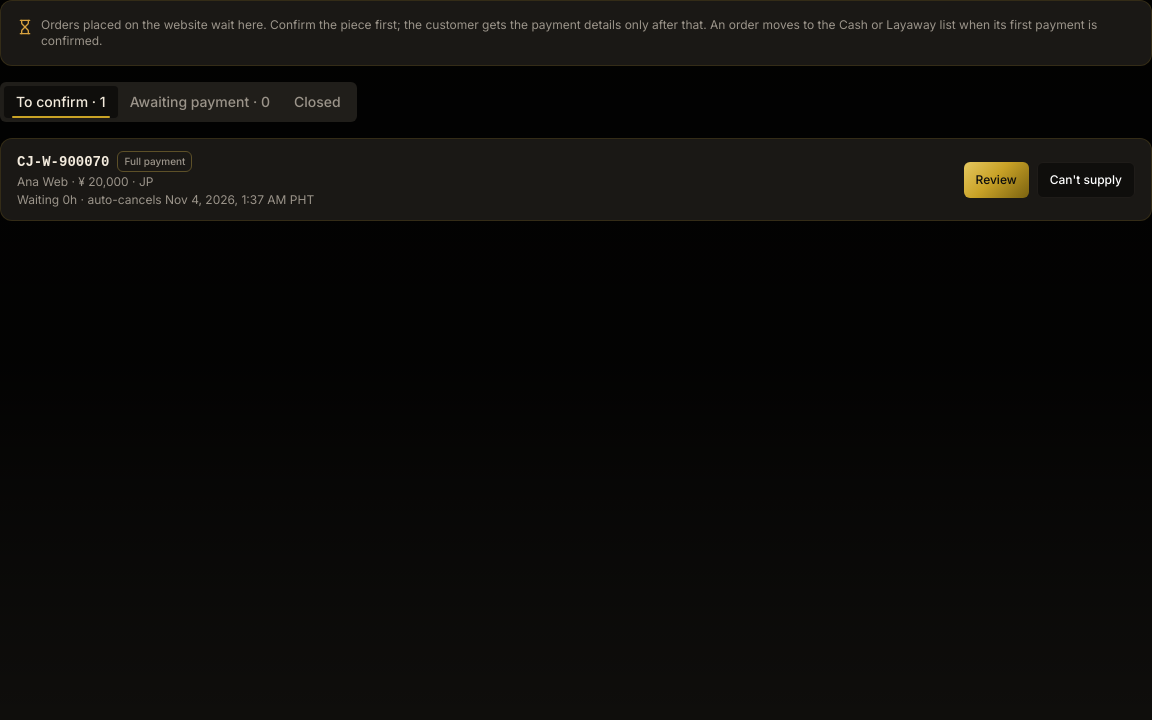
Test: Sales → Website orders › Can't supply needs a reason, then declines the draft
Later steps or results of the test are not shown.
Click the button "Can't supply" at (1086, 180), box [1037, 162, 1135, 198]
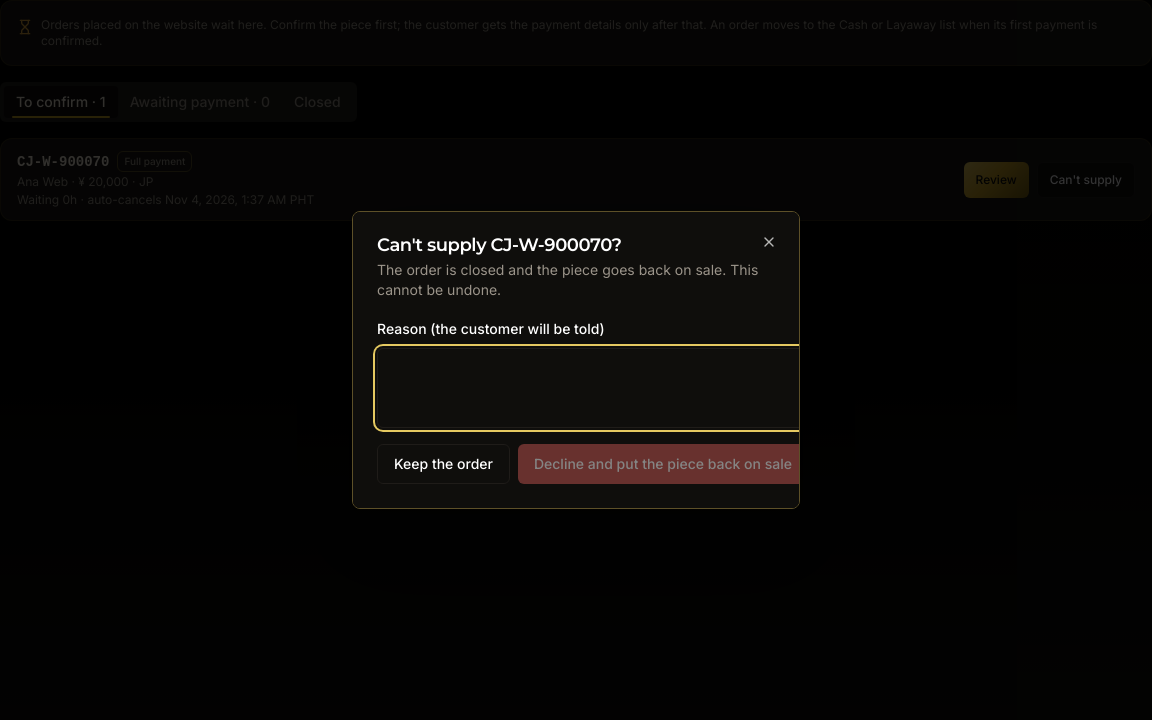
Expected: the button "Decline and put the piece back on sale" is disabled, [518, 444, 800, 484]
